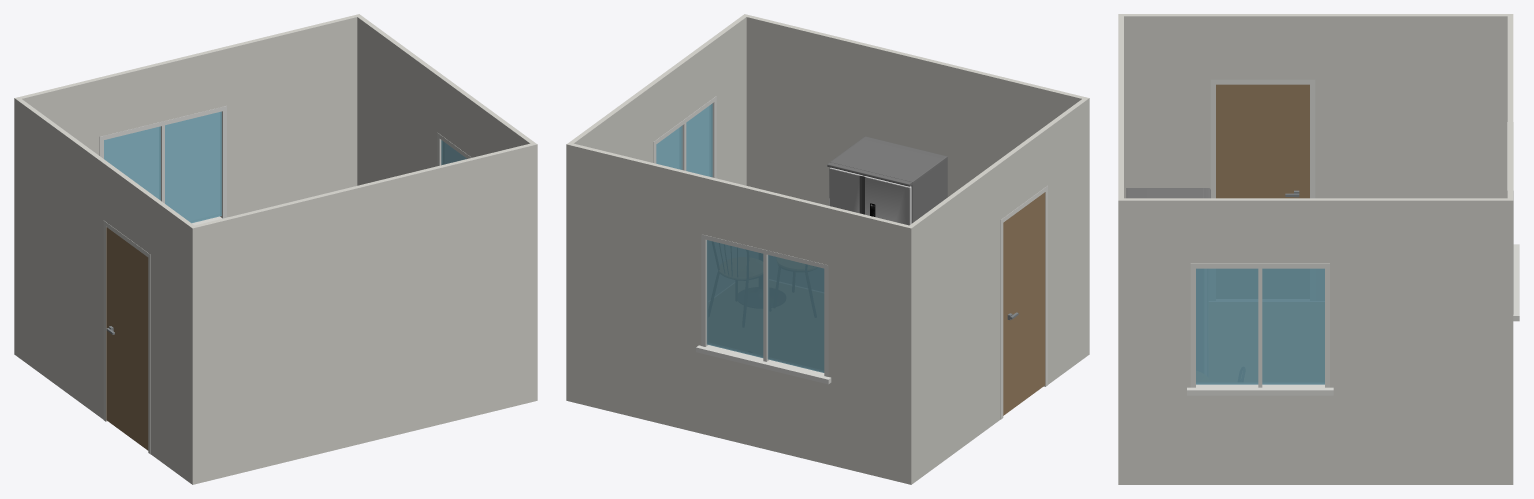
The model's file is scenesmith.glb.
3 views of the same model, side by side, from view 1: azimuth 30°, elevation 25°; view 2: azimuth 150°, elevation 25°; view 3: azimuth 270°, elevation 25° (orthographic). The views are drawn at different scales.
Parts seen in each view (by area): view 1: scene_064_kitchen_south_wall, scene_064_kitchen_west_wall, scene_064_kitchen_north_wall, scene_064_kitchen_east_wall, scene_064_kitchen_north_wall Window 0 | glazing, scene_064_kitchen_west_wall Door 0 | wood leaf, scene_064_kitchen_north_wall Window 0 | jamb, scene_064_kitchen_west_wall Door 0 | jamb; view 2: scene_064_kitchen_north_wall, scene_064_kitchen_west_wall, scene_064_kitchen_south_wall, scene_064_kitchen_east_wall, scene_064_kitchen_north_wall Window 0 | glazing, scene_064_kitchen_west_wall Door 0 | wood leaf, P_f8e6ec29135c7d25.001, scene_064_kitchen_north_wall Window 0 | jamb, P_1014312fa10090b0.001, scene_064_kitchen_east_wall Window 0 | glazing, scene_064_kitchen_west_wall Door 0 | jamb, scene_064_kitchen_east_wall Window 0 | jamb; view 3: scene_064_kitchen_east_wall, scene_064_kitchen_west_wall, scene_064_kitchen_east_wall Window 0 | glazing, scene_064_kitchen_west_wall Door 0 | wood leaf, scene_064_kitchen_east_wall Window 0 | jamb, scene_064_kitchen_north_wall, scene_064_kitchen_south_wall, scene_064_kitchen_west_wall Door 0 | jamb, P_f8e6ec29135c7d25.001, scene_064_kitchen_north_wall Window 0 | jamb.
Boxes of the visible parts, <box> form: scene_064_kitchen_south_wall: <box>190,142,537,484</box>; scene_064_kitchen_west_wall: <box>15,97,197,484</box>; scene_064_kitchen_north_wall: <box>14,14,361,355</box>; scene_064_kitchen_east_wall: <box>357,16,537,401</box>; scene_064_kitchen_north_wall Window 0 | glazing: <box>104,111,221,223</box>; scene_064_kitchen_west_wall Door 0 | wood leaf: <box>106,227,148,450</box>; scene_064_kitchen_north_wall Window 0 | jamb: <box>99,106,226,225</box>; scene_064_kitchen_west_wall Door 0 | jamb: <box>103,220,150,454</box>; scene_064_kitchen_north_wall: <box>567,142,913,484</box>; scene_064_kitchen_west_wall: <box>906,97,1088,484</box>; scene_064_kitchen_south_wall: <box>742,14,1089,355</box>; scene_064_kitchen_east_wall: <box>566,16,746,401</box>; scene_064_kitchen_north_wall Window 0 | glazing: <box>706,240,824,372</box>; scene_064_kitchen_west_wall Door 0 | wood leaf: <box>1003,192,1045,415</box>; P_f8e6ec29135c7d25.001: <box>827,136,947,223</box>; scene_064_kitchen_north_wall Window 0 | jamb: <box>696,234,831,384</box>; P_1014312fa10090b0.001: <box>829,168,910,225</box>; scene_064_kitchen_east_wall Window 0 | glazing: <box>656,103,712,177</box>; scene_064_kitchen_west_wall Door 0 | jamb: <box>1000,185,1047,419</box>; scene_064_kitchen_east_wall Window 0 | jamb: <box>653,96,716,178</box>; scene_064_kitchen_east_wall: <box>1124,198,1507,484</box>; scene_064_kitchen_west_wall: <box>1118,14,1513,198</box>; scene_064_kitchen_east_wall Window 0 | glazing: <box>1196,268,1324,384</box>; scene_064_kitchen_west_wall Door 0 | wood leaf: <box>1216,84,1309,198</box>; scene_064_kitchen_east_wall Window 0 | jamb: <box>1187,263,1333,395</box>; scene_064_kitchen_north_wall: <box>1507,16,1513,484</box>; scene_064_kitchen_south_wall: <box>1118,16,1123,484</box>; scene_064_kitchen_west_wall Door 0 | jamb: <box>1210,79,1315,198</box>; P_f8e6ec29135c7d25.001: <box>1126,188,1210,198</box>; scene_064_kitchen_north_wall Window 0 | jamb: <box>1507,122,1519,321</box>.
Size of the model in its own units: 3.9 by 2.71 by 3.45.
19 materials, 6 textured.
